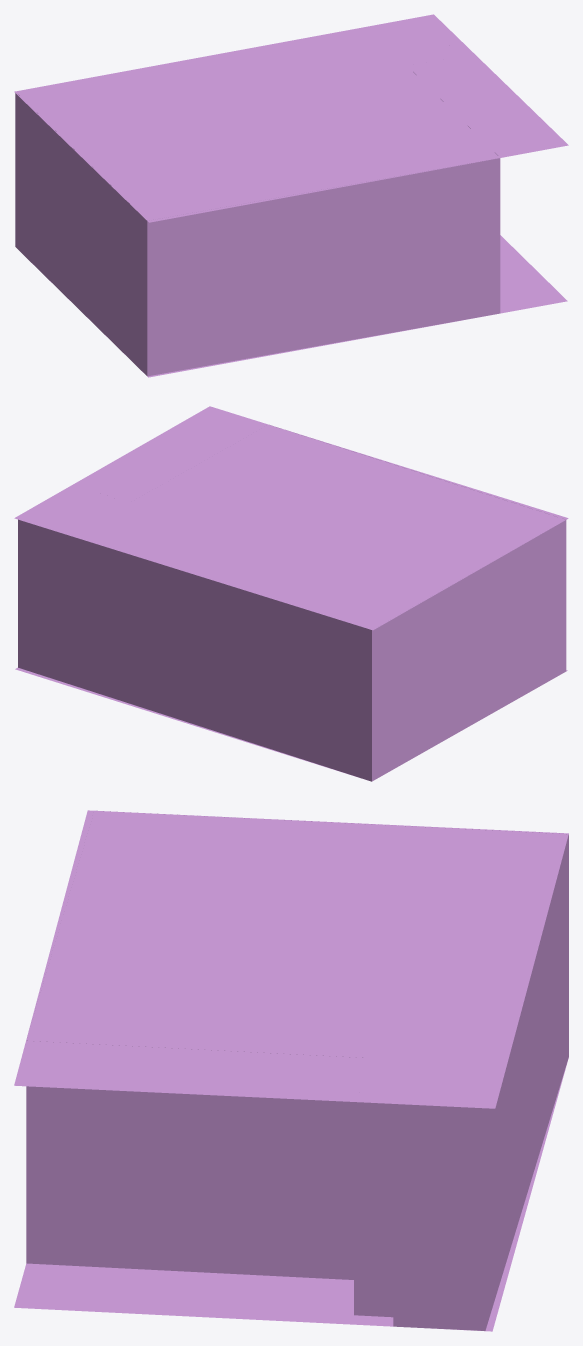
Rendered from RawStudioModele.fbx.
3 renders of one model, top to bottom at view 1: azimuth 30°, elevation 25°; view 2: azimuth 150°, elevation 25°; view 3: azimuth 270°, elevation 25°, orthographic. The views are drawn at different scales.
Parts seen in each view (by area): view 1: Officiel; view 2: Officiel; view 3: Officiel.
Part boxes in pixels (bbox=[...]): Officiel: bbox=[14, 14, 568, 377]; Officiel: bbox=[14, 406, 568, 781]; Officiel: bbox=[14, 810, 568, 1331].
Bounding box in the file's own units: 11.96 × 4.16 × 9.4.
